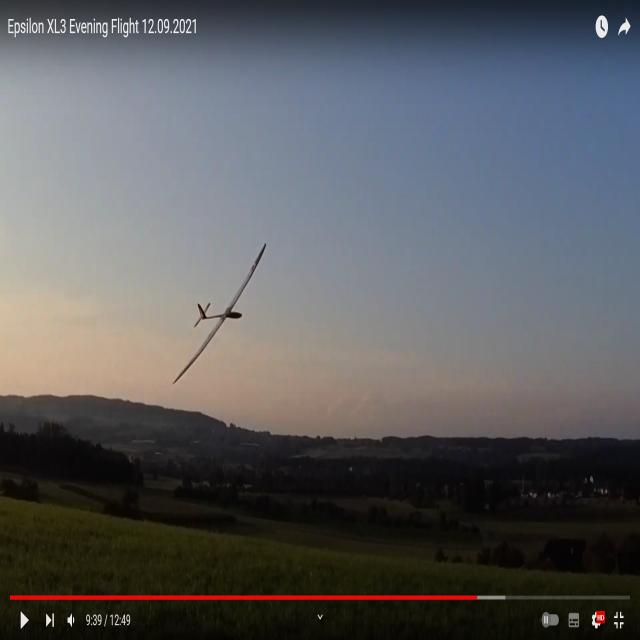iha: (205, 241, 238, 387)
